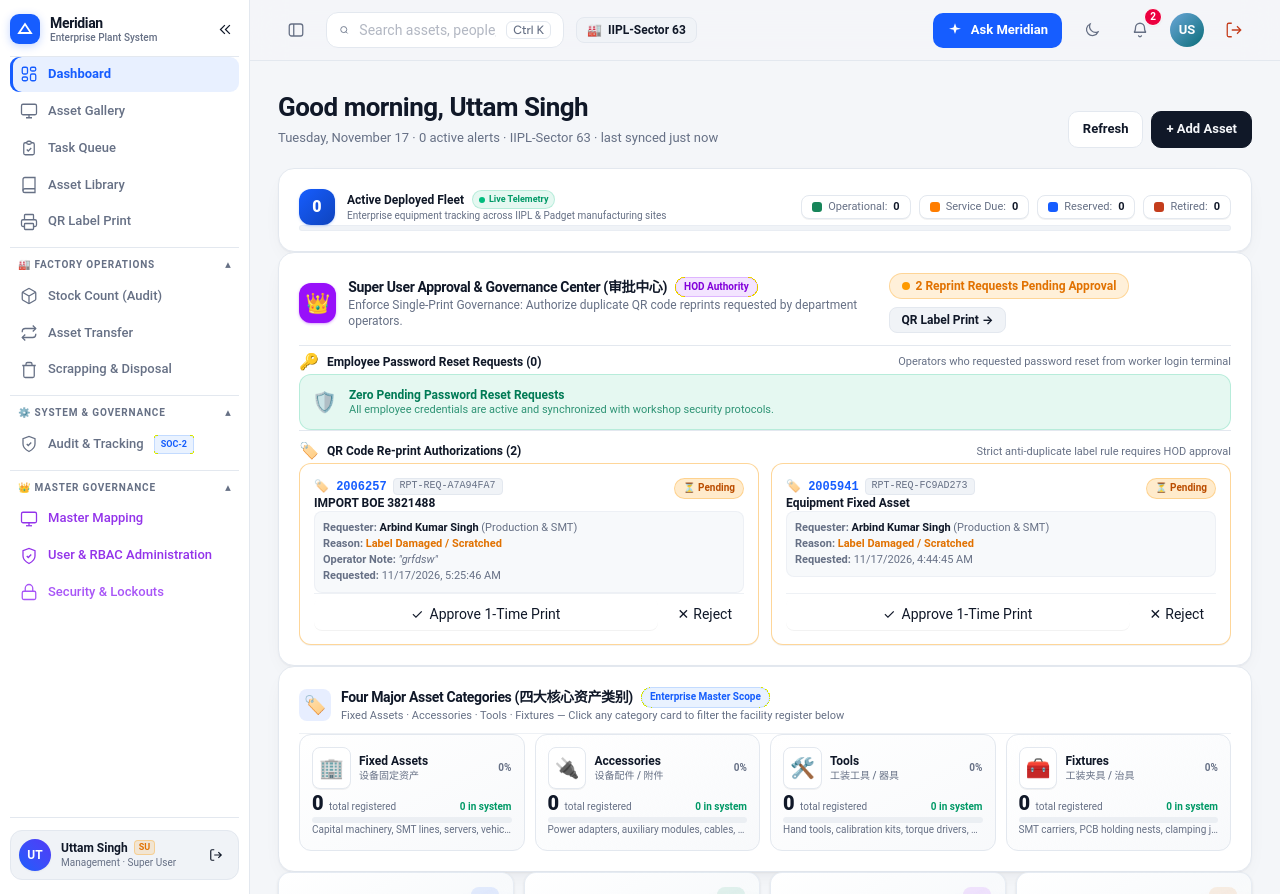
Scenario: Super User Approval Dashboard & Notification Center Specification › displays badge on notification bell and opens notification flyout with pending approval requests
// Click the bell
Step 1. Click the button named "Notifications (2 pending approvals)" → (1140, 30), box [1122, 12, 1158, 48]
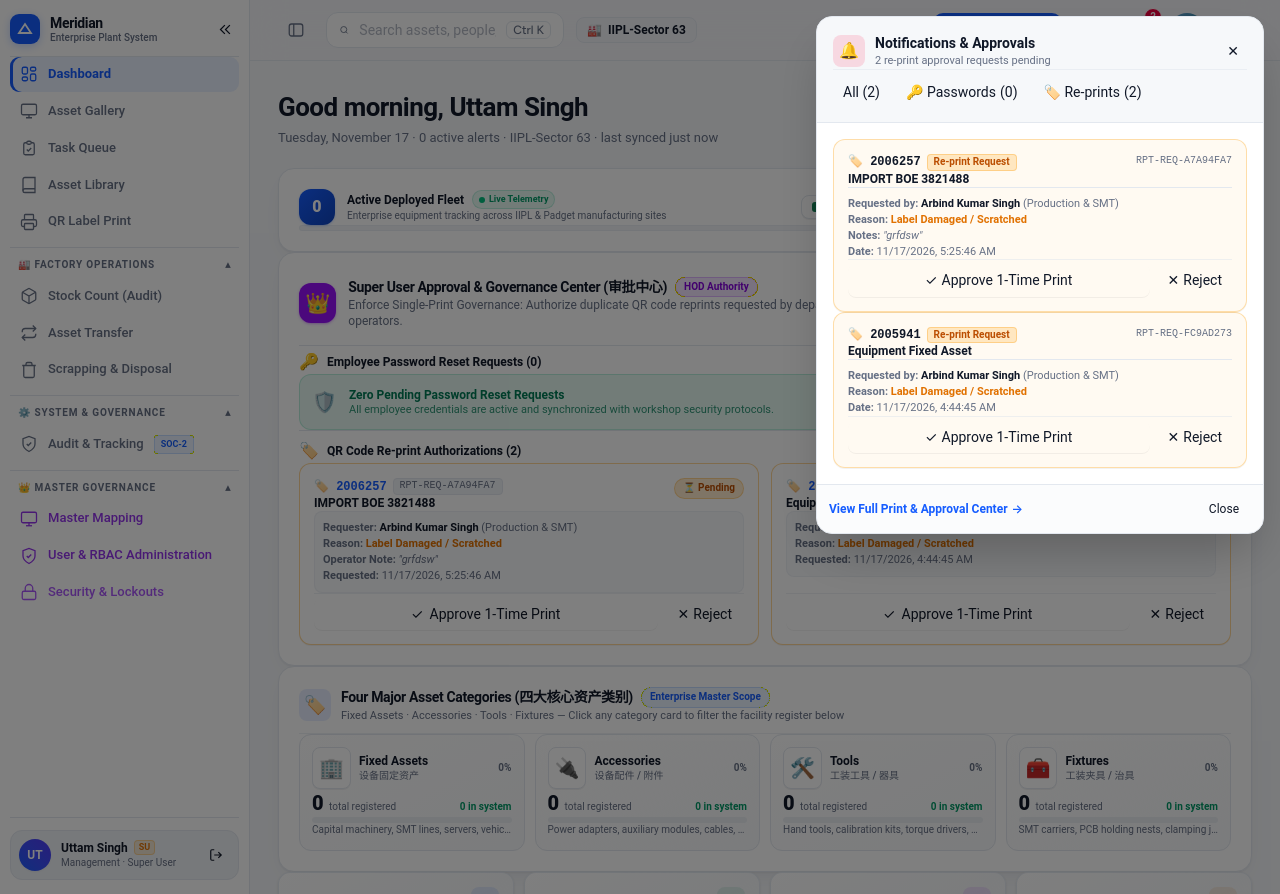
expect the text "Arbind Kumar Singh" below "QR Code Re-print Authorizations (" is shown: met, box [380, 521, 479, 534]
expect the heading "Notifications & Approvals" is shown: met, box [875, 33, 1051, 53]
expect the text "2 re-print approval requests pending" is shown: met, box [875, 53, 1051, 69]
